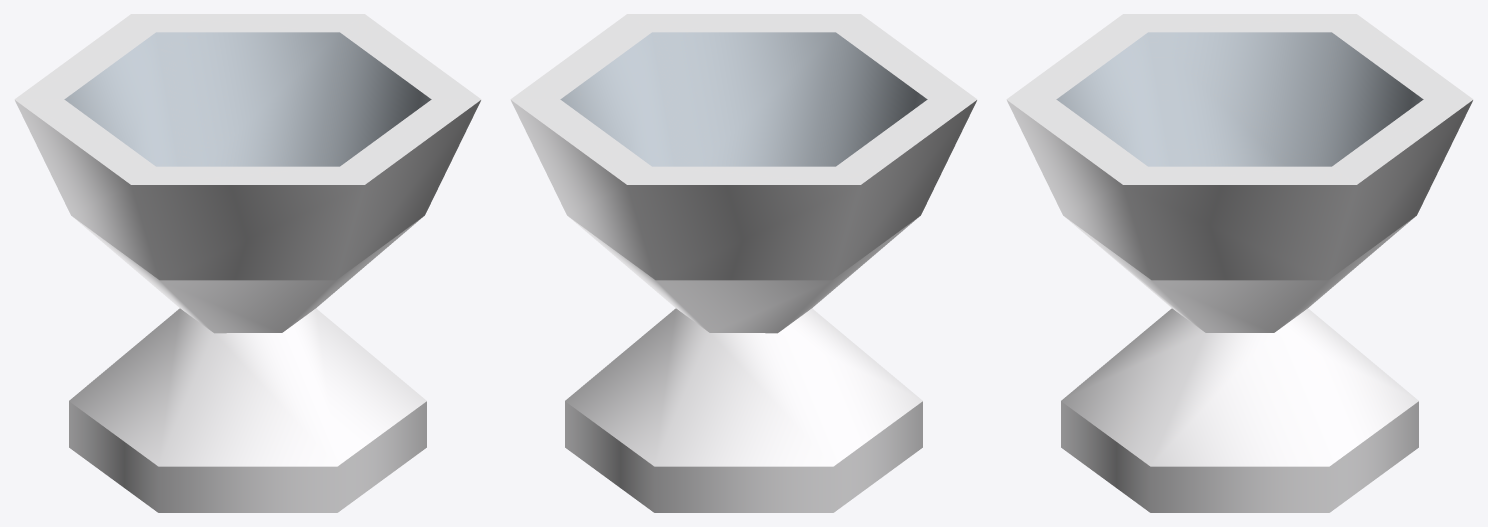
File: EggCup-transformed.glb
3 views of the same model, side by side, from view 1: azimuth 30°, elevation 25°; view 2: azimuth 150°, elevation 25°; view 3: azimuth 270°, elevation 25° (orthographic).
Parts seen in each view (by area): view 1: eggCup; view 2: eggCup; view 3: eggCup.
Part boxes in pixels (bbox=[...]): eggCup: bbox=[14, 14, 481, 512]; eggCup: bbox=[510, 14, 977, 512]; eggCup: bbox=[1006, 14, 1473, 512].
Bounding box in the file's own units: 0.1581 × 0.15 × 0.1826.
1 material, 1 textured.
